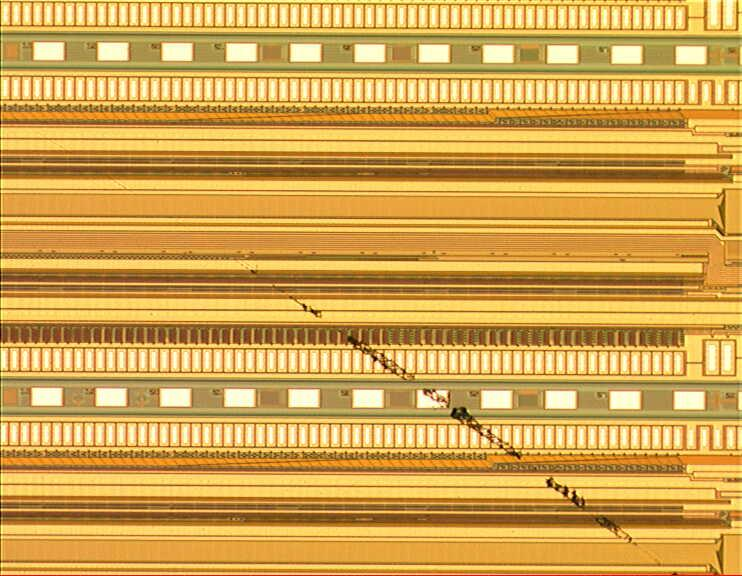SCRATCH: (28, 124, 690, 576)
